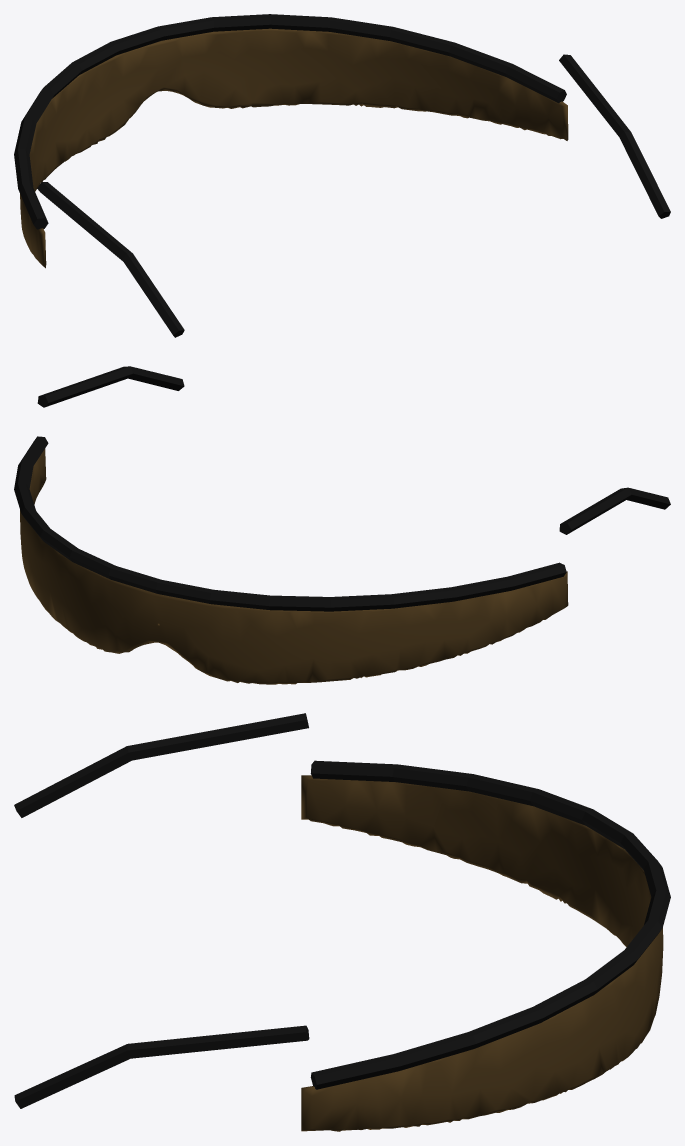
File: eyepro.glb
3 renders of one model, top to bottom at view 1: azimuth 30°, elevation 25°; view 2: azimuth 150°, elevation 25°; view 3: azimuth 270°, elevation 25°, orthographic. The views are drawn at different scales.
Parts seen in each view (by area): view 1: eyepro_LOD0; view 2: eyepro_LOD0; view 3: eyepro_LOD0.
Part boxes in pixels (<box>): eyepro_LOD0: <box>14,14,670,337</box>; eyepro_LOD0: <box>14,366,670,684</box>; eyepro_LOD0: <box>14,713,670,1131</box>.
Size of what is drawn, in the model's own units: 0.1829 by 0.035 by 0.1589.
